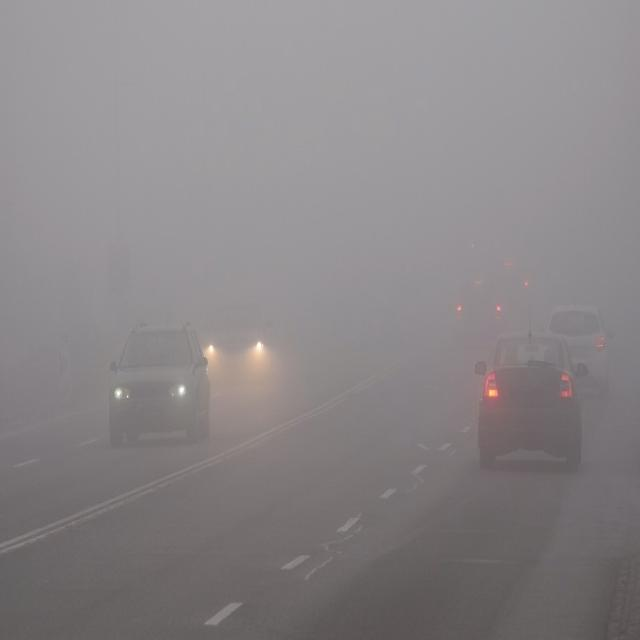Car: (473, 322, 588, 481), (106, 316, 211, 450), (542, 293, 618, 401)
